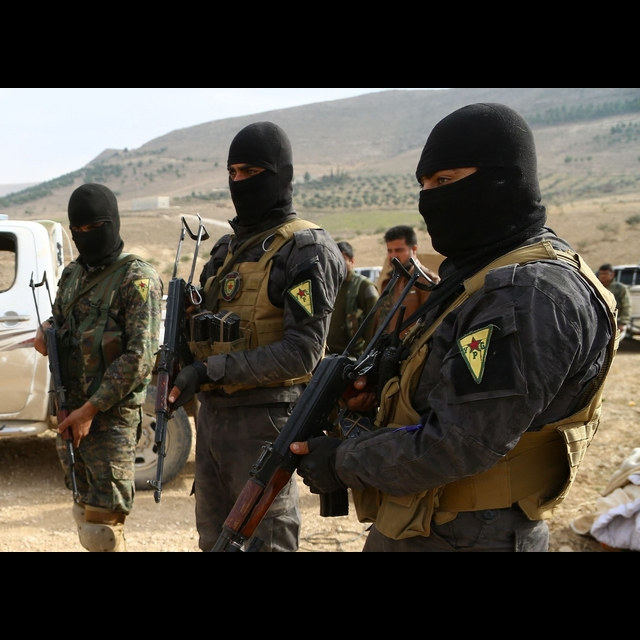AK47: (205, 354, 377, 551), (147, 276, 195, 506), (32, 328, 84, 507)
YPG: (455, 323, 502, 387), (285, 275, 319, 318)
